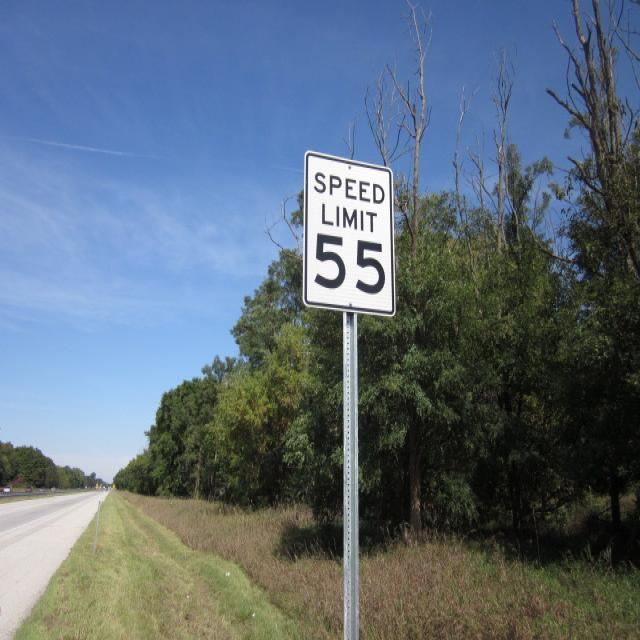regulatory: (301, 148, 398, 320)
